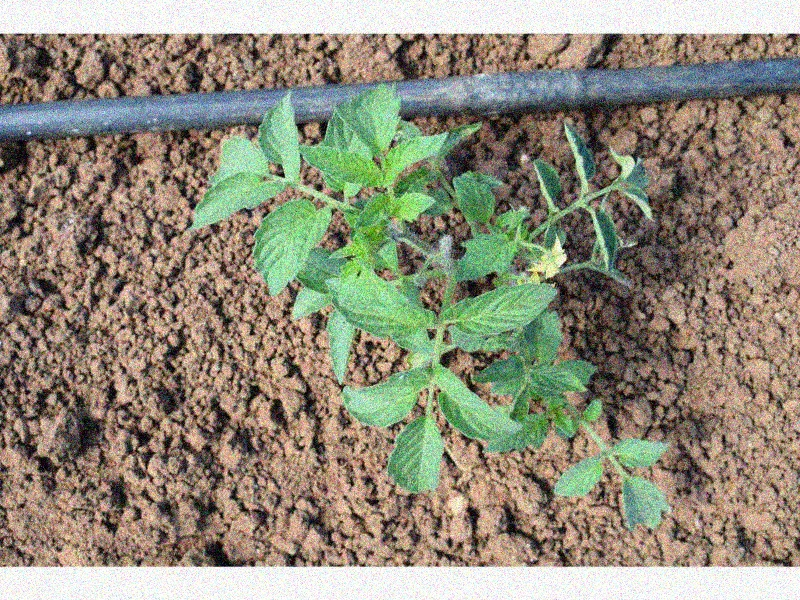tomato: (192, 87, 670, 531)
